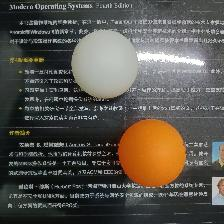WhiteBall: (71, 30, 138, 99)
YellowBall: (117, 118, 186, 187)
